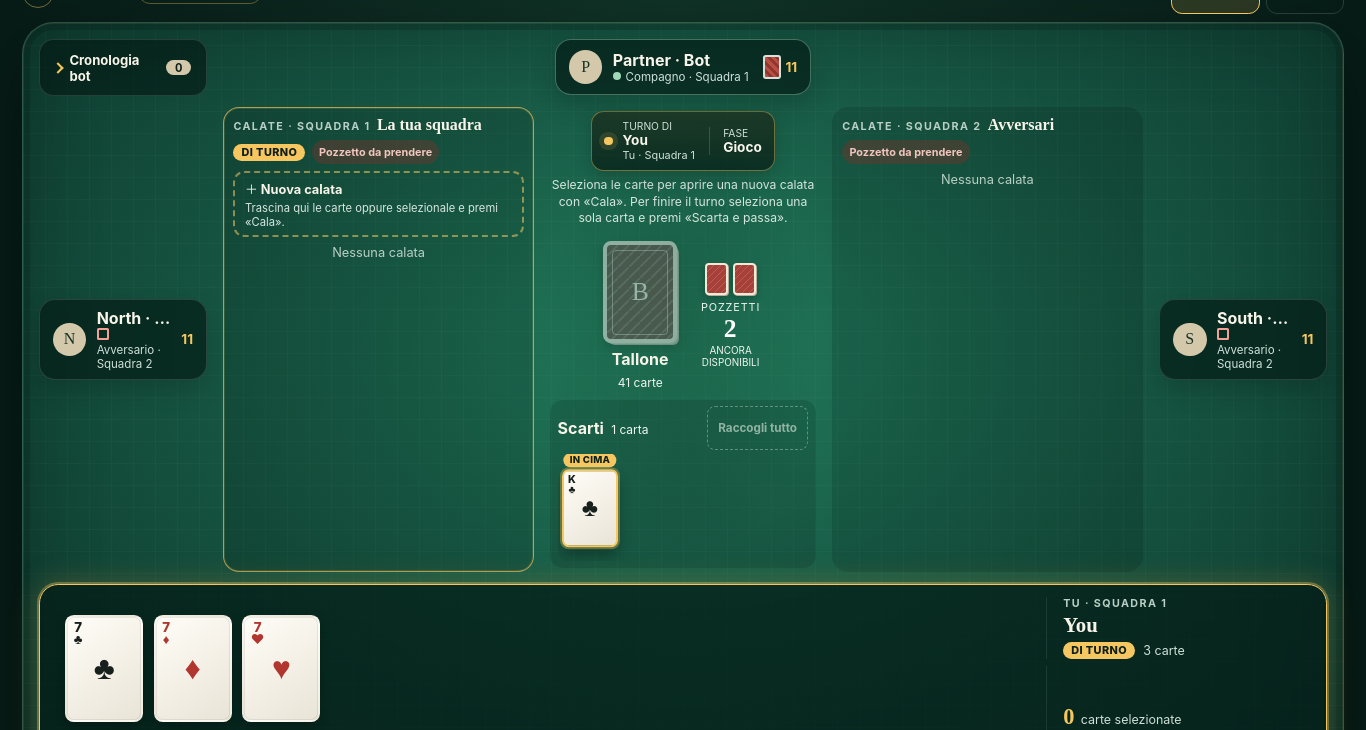
it: GameTable M24 visual feedback › cues the human team when the human takes the pozzetto
Click the button "7 ♣ ♣": (104, 668) [65,614,143,722]
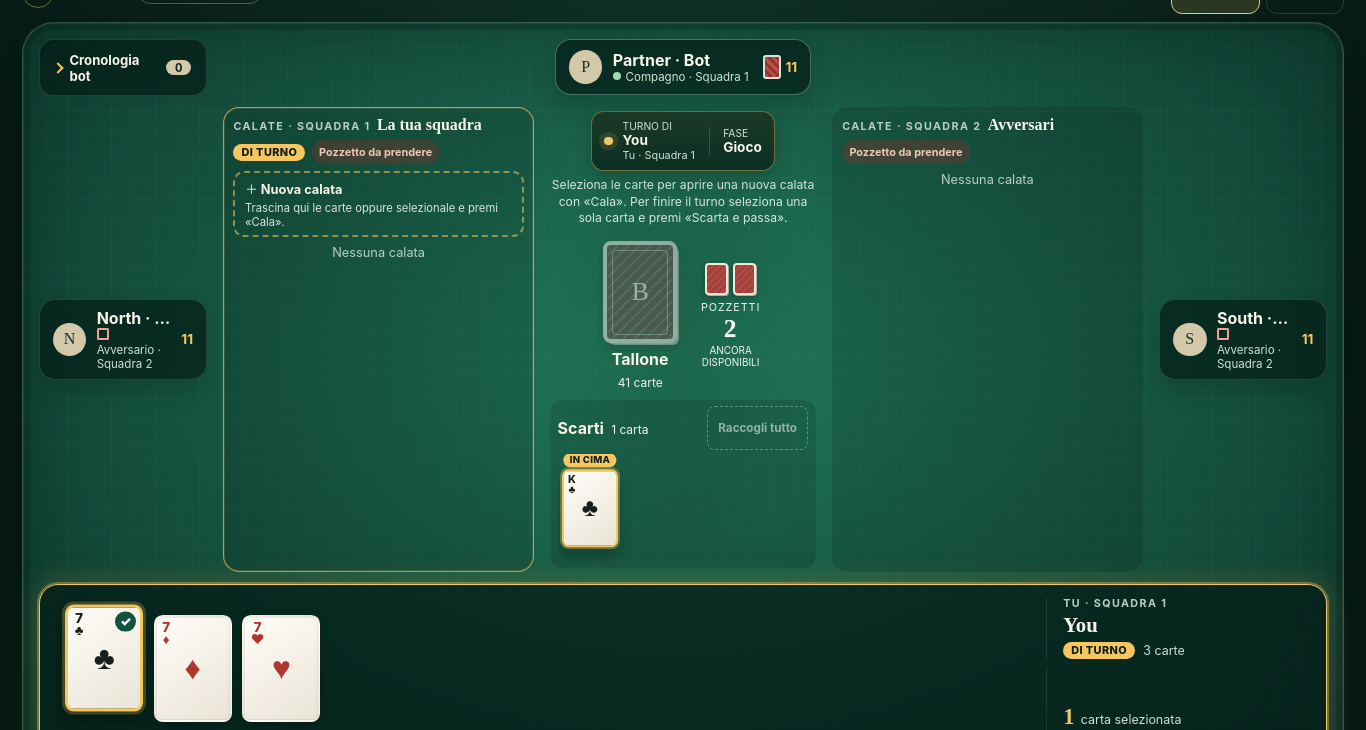
Click the button "7 ♦ ♦": (193, 668) [154,614,232,722]
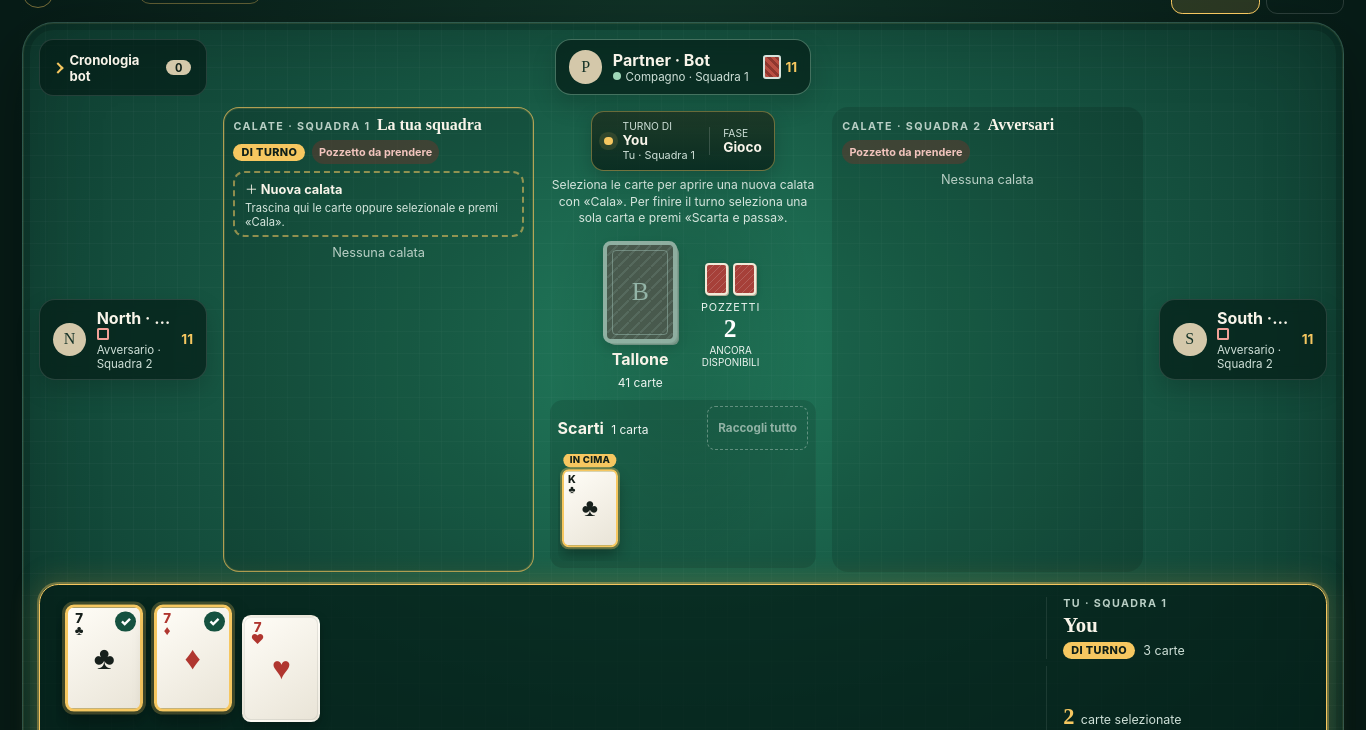
Click the button "7 ♥ ♥": (281, 668) [242,614,320,722]
(page scrolled)
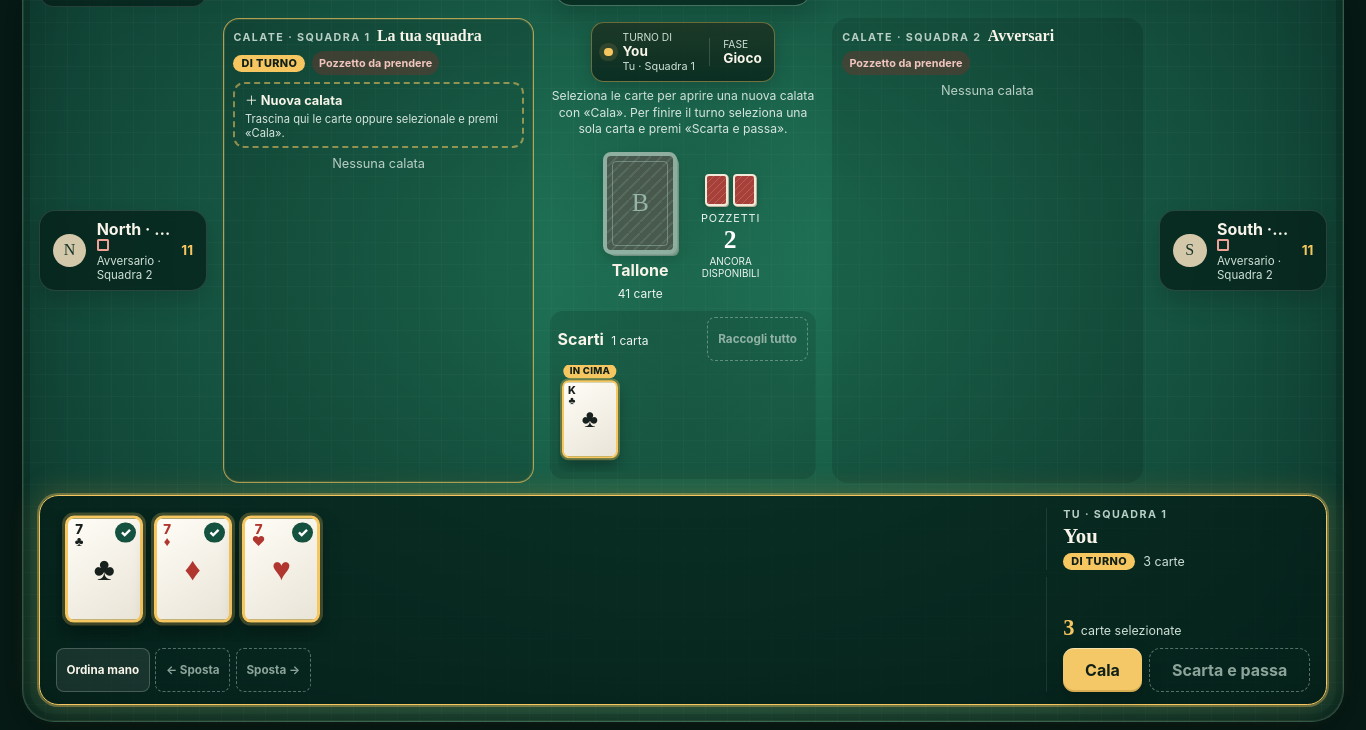
Click the button "Cala": (1103, 670) [1063,648,1142,692]
(page scrolled)
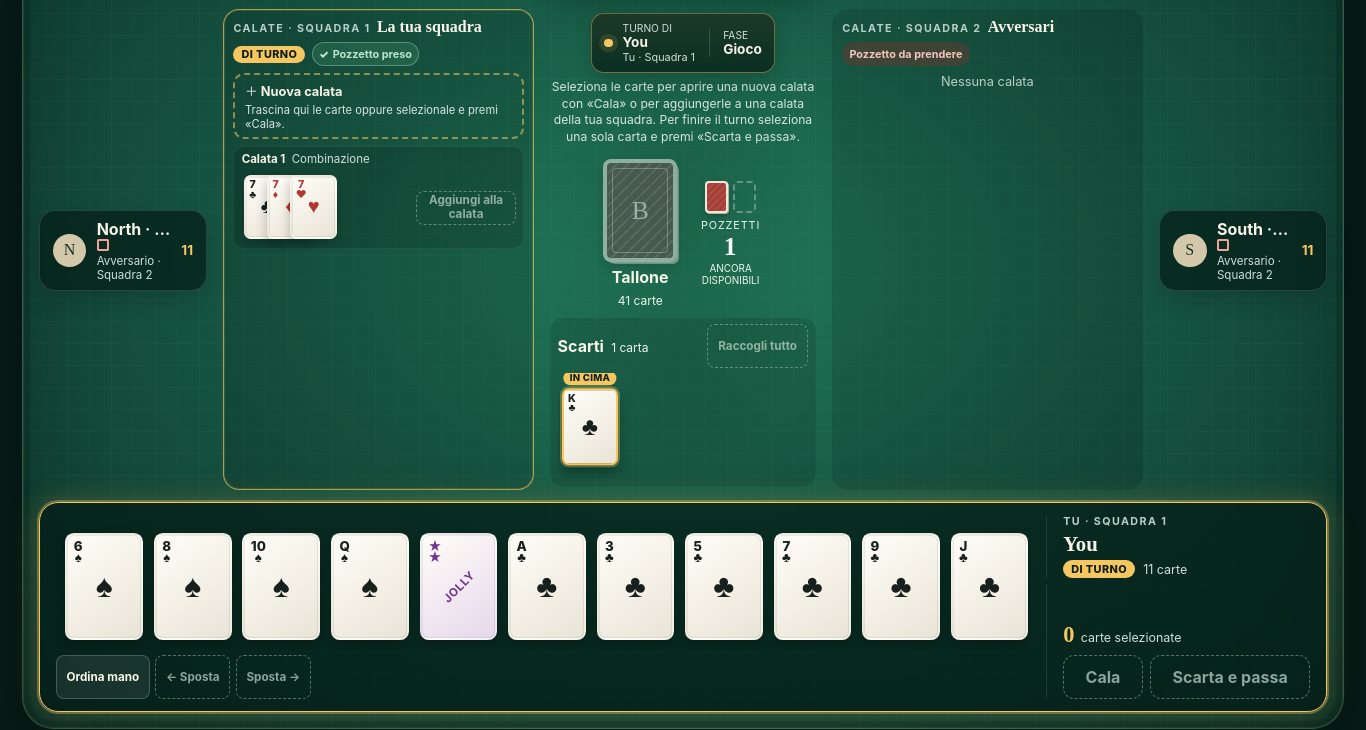
Result: the element named "Calate squadra 1" shows "Pozzetto preso" at [223,9,534,490]
